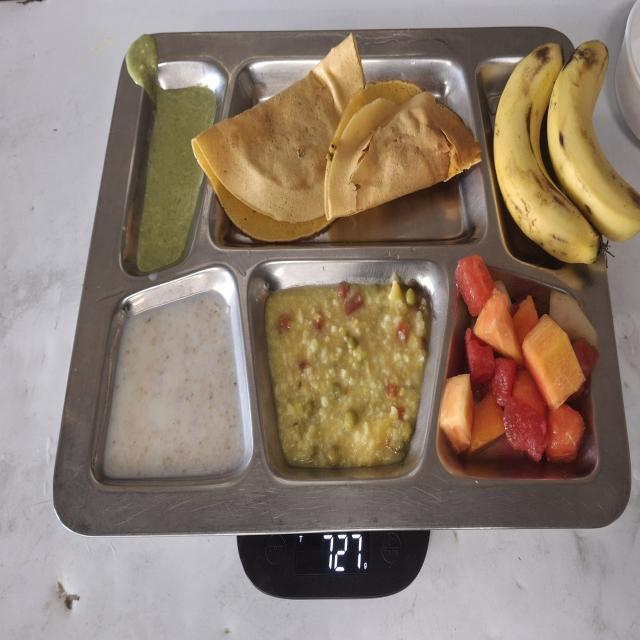Banana: (489, 33, 640, 269)
Besan Chilla: (194, 33, 485, 245)
Chutney: (132, 86, 202, 272)
Khichdi: (258, 272, 439, 505)
Mix Fruit: (439, 255, 598, 488)
Porridge: (96, 285, 247, 490)
